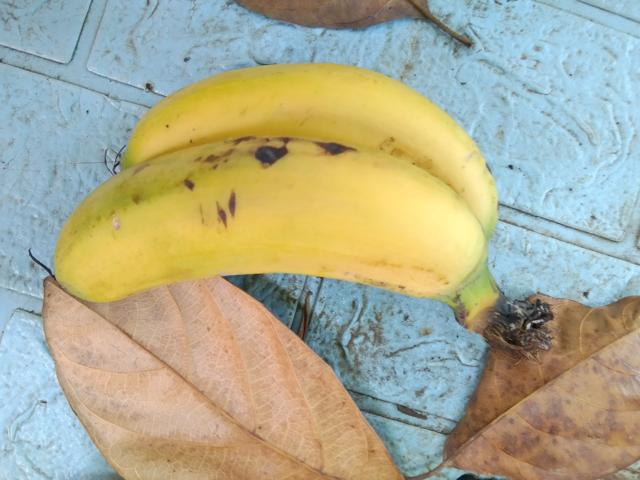freshripe: (120, 61, 433, 140)
ripe: (9, 135, 499, 395)
